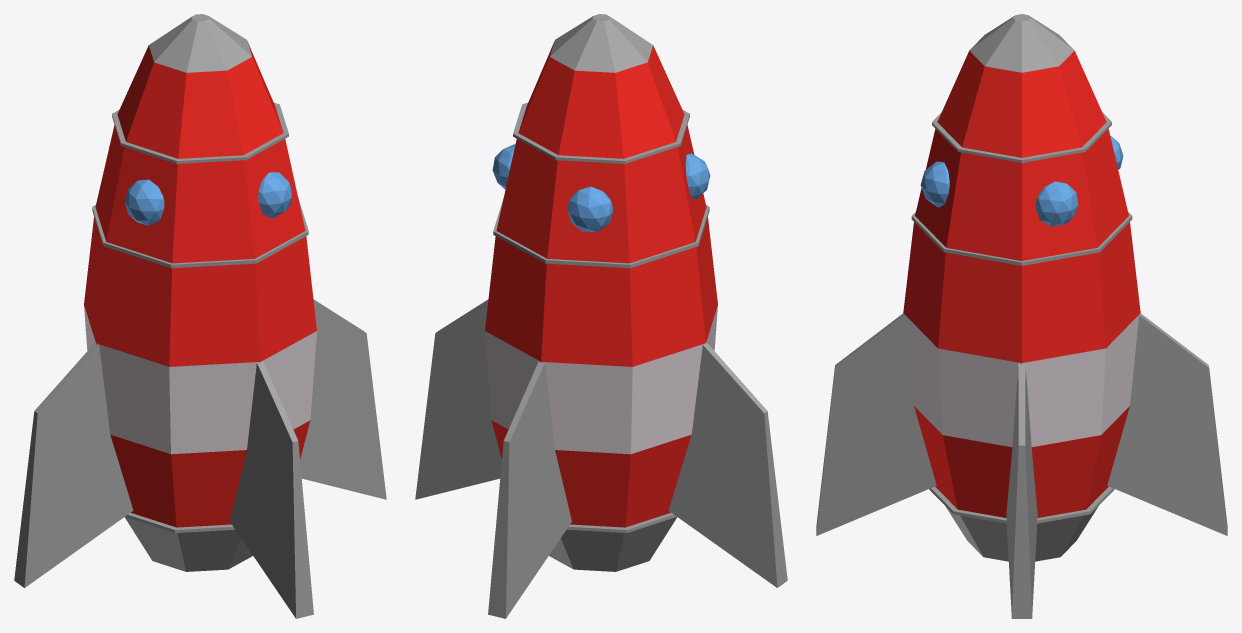
The model's file is starship.fbx.
3 renders of one model, left to right at view 1: azimuth 30°, elevation 25°; view 2: azimuth 150°, elevation 25°; view 3: azimuth 270°, elevation 25°, orthographic.
Visible parts, largest first — view 1: Cylinder, Cube, wire, Icosphere; view 2: Cylinder, Cube, wire, Icosphere; view 3: Cylinder, Cube, wire, Icosphere.
Boxes of the visible parts, x1=… form: Cylinder: x1=84, y1=14, x2=316, y2=571; Cube: x1=14, y1=299, x2=386, y2=618; wire: x1=92, y1=102, x2=308, y2=532; Icosphere: x1=109, y1=146, x2=292, y2=225; Cylinder: x1=485, y1=14, x2=717, y2=571; Cube: x1=415, y1=299, x2=787, y2=618; wire: x1=493, y1=102, x2=709, y2=532; Icosphere: x1=492, y1=144, x2=710, y2=232; Cylinder: x1=903, y1=14, x2=1140, y2=561; Cube: x1=816, y1=313, x2=1227, y2=618; wire: x1=911, y1=112, x2=1132, y2=523; Icosphere: x1=920, y1=135, x2=1123, y2=226.
Bounding box in the file's own units: 68.46 × 96 × 68.46.
